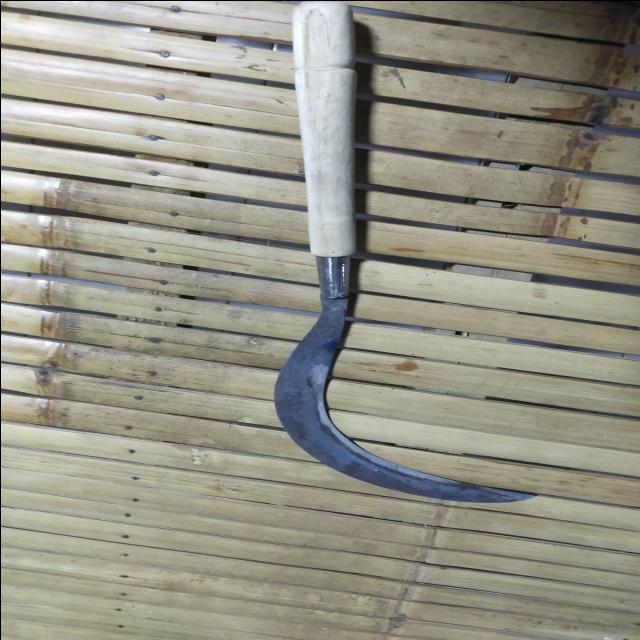Celurit: (270, 1, 541, 505)
